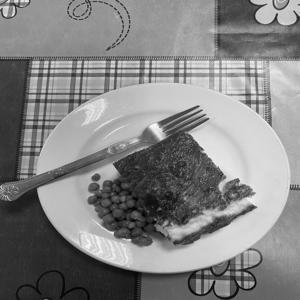casserole: (84, 129, 271, 246)
